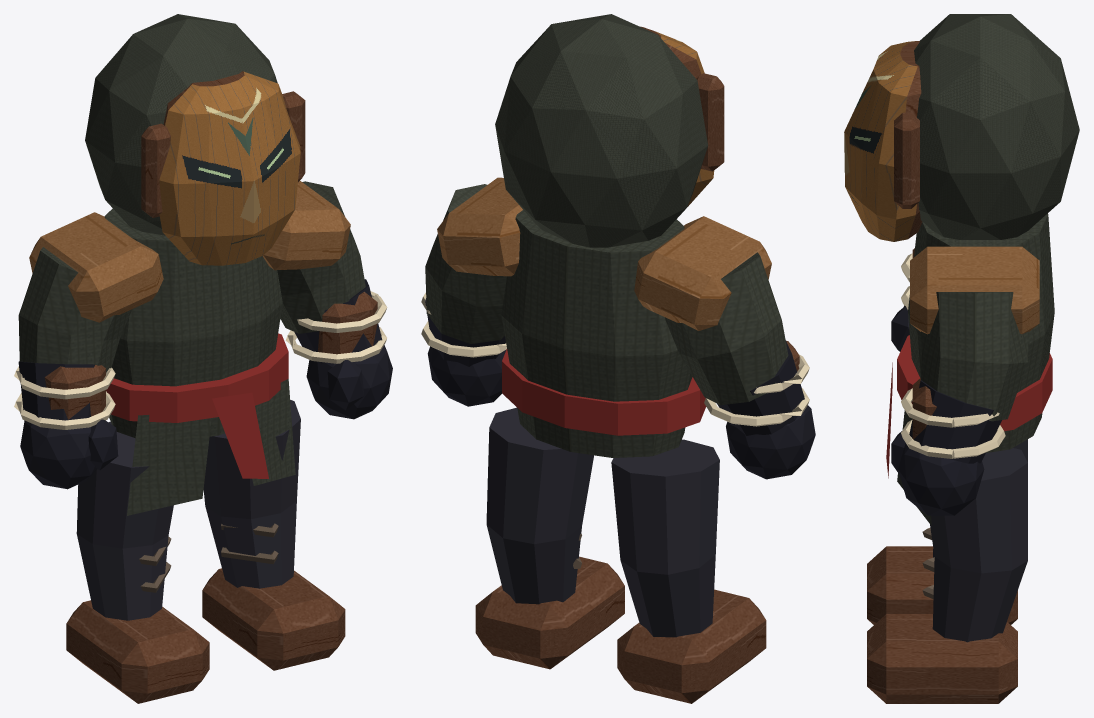
File: guardian.glb
The picture shows the model from 3 angles, left to right: view 1: azimuth 30°, elevation 25°; view 2: azimuth 150°, elevation 25°; view 3: azimuth 270°, elevation 25°; orthographic projection. The views are drawn at different scales.
Visible parts, largest first — view 1: CarvedMask, Tunic, FabricHood, Trousers, Trousers.001, Foot, Foot.001, LacqueredShoulder, Sleeve, TunicTail, WovenBelt, Sleeve.001 (+17 smaller); view 2: FabricHood, Tunic, Trousers, Trousers.001, Sleeve, Foot, Foot.001, LacqueredShoulder, WovenBelt, LacqueredShoulder.001, Sleeve.001, Fist (+7 smaller); view 3: FabricHood, Trousers.001, Foot.001, Sleeve.001, CarvedMask, LacqueredShoulder.001, Tunic, Foot, Fist.001, Forearm.001, WovenBelt, MaskTemple.001 (+4 smaller).
Boxes of the visible parts, x1,y1,x2,y2 form: CarvedMask: (159, 71, 300, 265); Tunic: (104, 208, 282, 438); FabricHood: (85, 14, 277, 235); Trousers: (76, 421, 173, 620); Trousers.001: (203, 400, 300, 588); Foot: (66, 600, 209, 703); Foot.001: (202, 568, 345, 670); LacqueredShoulder: (29, 212, 163, 322); Sleeve: (18, 247, 131, 372); TunicTail: (127, 415, 211, 515); WovenBelt: (106, 333, 288, 422); Sleeve.001: (277, 181, 365, 333); FabricHood: (495, 14, 708, 247); Tunic: (501, 210, 692, 457); Trousers: (611, 439, 719, 637); Trousers.001: (486, 407, 593, 604); Sleeve: (665, 252, 788, 405); Foot: (617, 589, 766, 703); Foot.001: (475, 556, 624, 669); LacqueredShoulder: (634, 216, 771, 330); WovenBelt: (502, 349, 706, 435); LacqueredShoulder.001: (437, 177, 522, 276); Sleeve.001: (425, 184, 506, 343); Fist: (726, 405, 815, 479); FabricHood: (914, 14, 1079, 239); Trousers.001: (930, 448, 1027, 642); Foot.001: (867, 614, 1017, 703); Sleeve.001: (921, 292, 1028, 421); CarvedMask: (844, 41, 922, 241); LacqueredShoulder.001: (910, 246, 1039, 334); Tunic: (908, 213, 1054, 452); Foot: (867, 546, 1017, 624); Fist.001: (898, 443, 984, 515); Forearm.001: (909, 380, 1001, 463); WovenBelt: (897, 335, 1052, 431); MaskTemple.001: (894, 112, 919, 208).
Size of the model in its own units: 0.9797 by 1.64 by 0.5456.
Materials: 9 (4 with a texture image).
